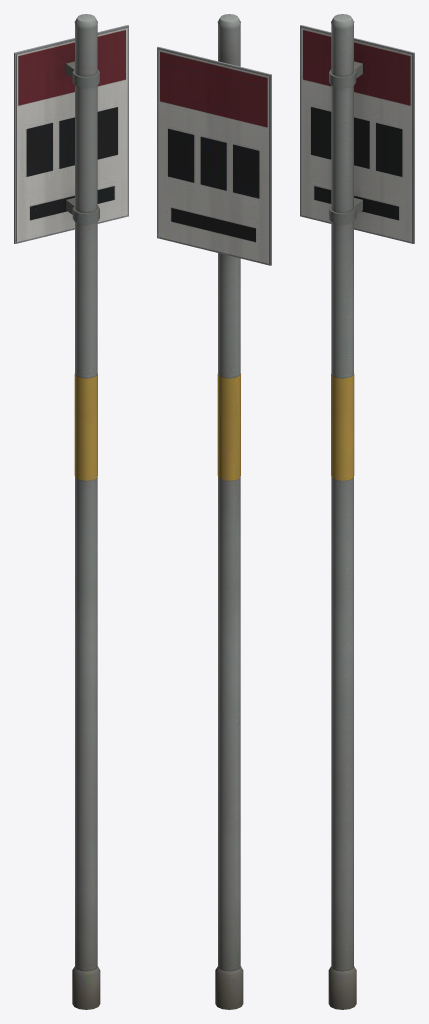
The model's file is busStopFlag-v2.glb.
3 renders of one model, left to right at view 1: azimuth 30°, elevation 25°; view 2: azimuth 150°, elevation 25°; view 3: azimuth 330°, elevation 25°, orthographic.
Parts seen in each view (by area): view 1: busStopFlag; view 2: busStopFlag; view 3: busStopFlag.
Part boxes in pixels (x1,y1,x2,y2): busStopFlag: (14, 14, 128, 1009); busStopFlag: (157, 14, 271, 1009); busStopFlag: (300, 14, 414, 1009).
Size of the model in its own units: 0.35 by 2.9 by 0.1207.
Materials: 1 (1 with a texture image).
